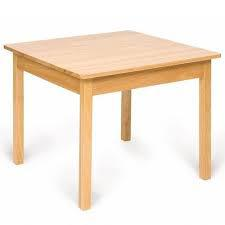desk: (1, 21, 217, 208)
